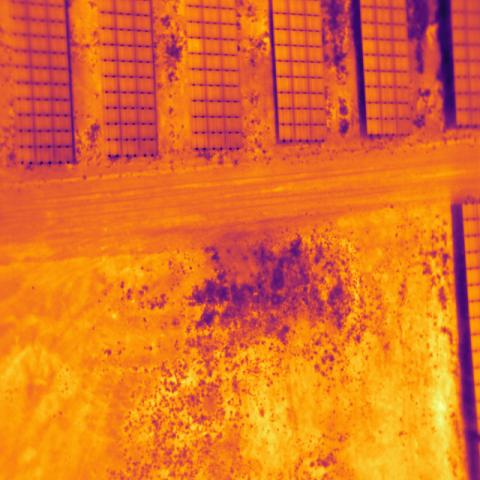fault: (187, 39, 204, 54)
